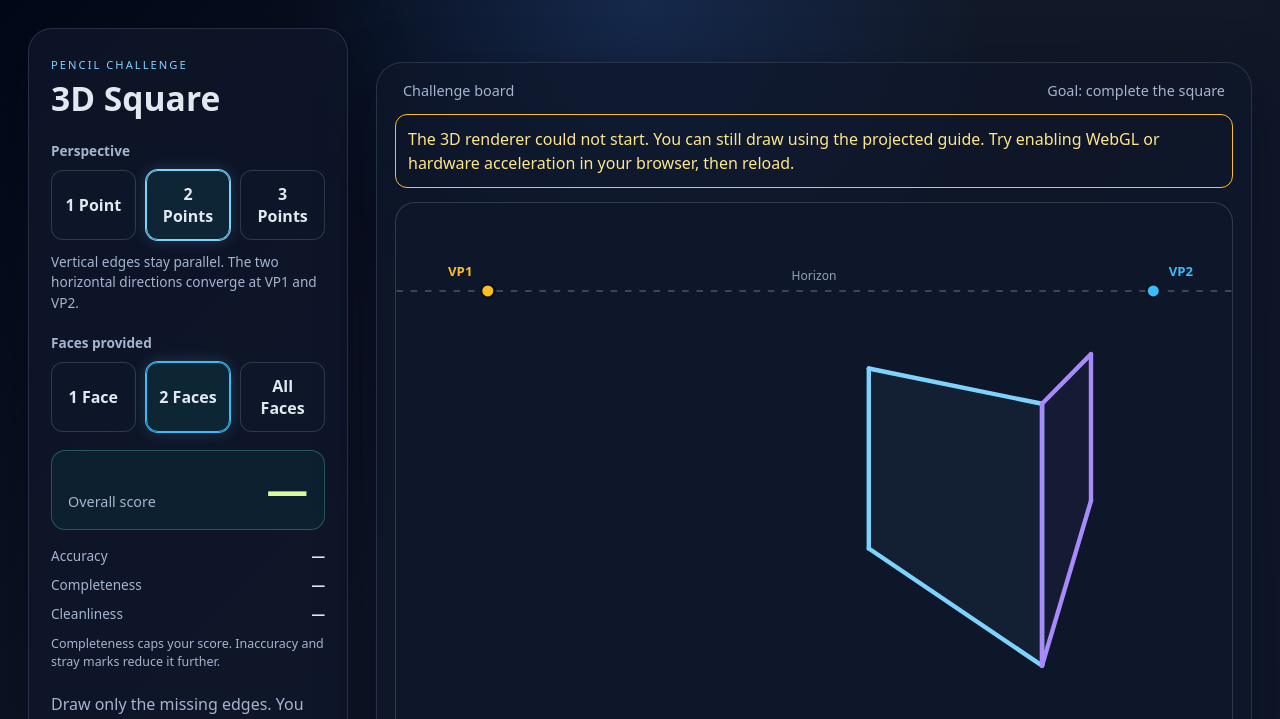
it: all-faces tracing also scores the SVG guide when WebGL is unavailable
Click the button "all faces": (283, 397) [240,362,325,432]
(page scrolled)
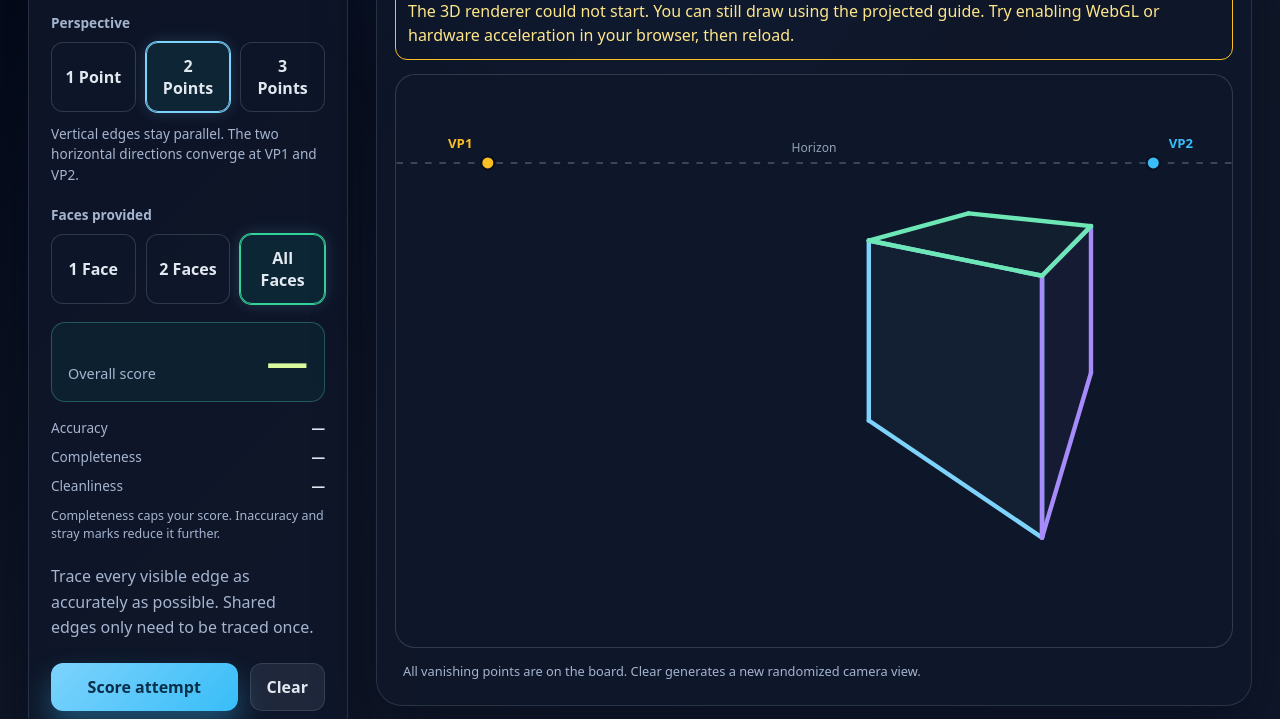
Press the mouse on the drawing named "Drawing canvas": (814, 361) [396,75,1232,647]
Press the mouse on the drawing named "Drawing canvas": (814, 361) [396,75,1232,647]
Press the mouse on the drawing named "Drawing canvas": (814, 361) [396,75,1232,647]
Click the button "Score attempt": (144, 687) [51,663,238,711]
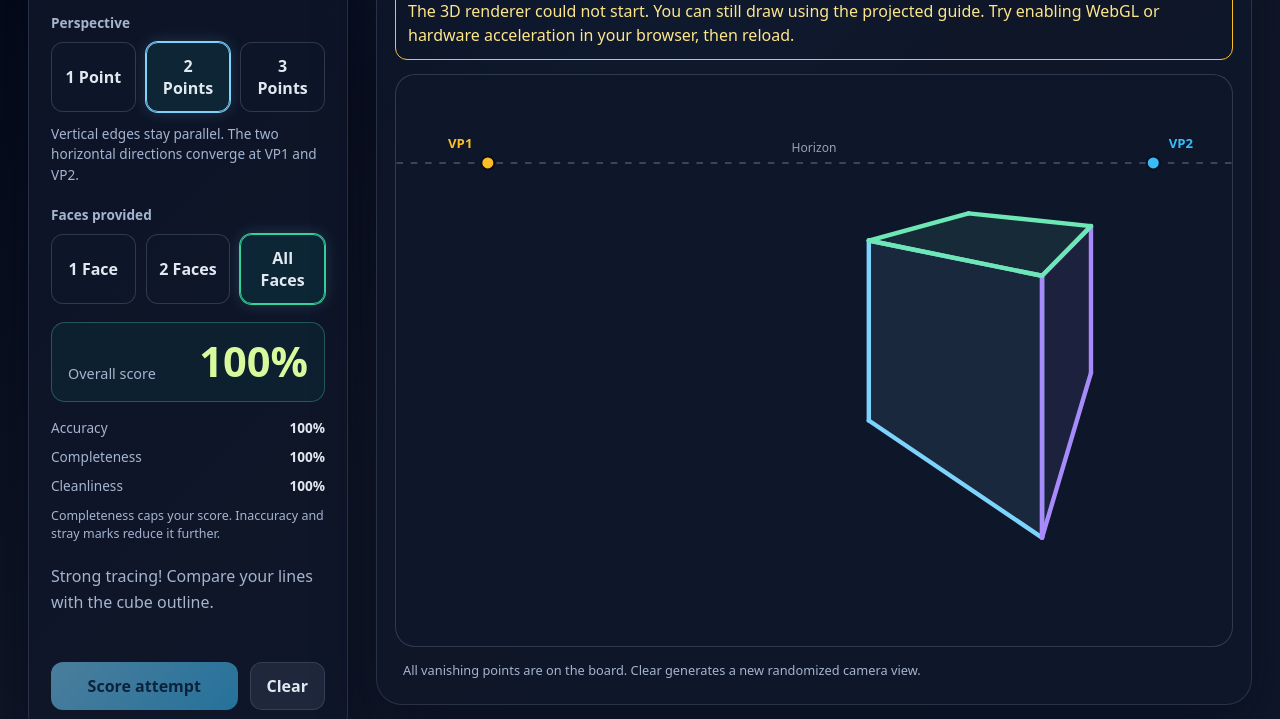
Check: the text named "Overall score" reads "100%", box [199,333,308,389]
